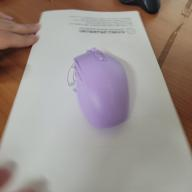mouse: (72, 45, 130, 130)
